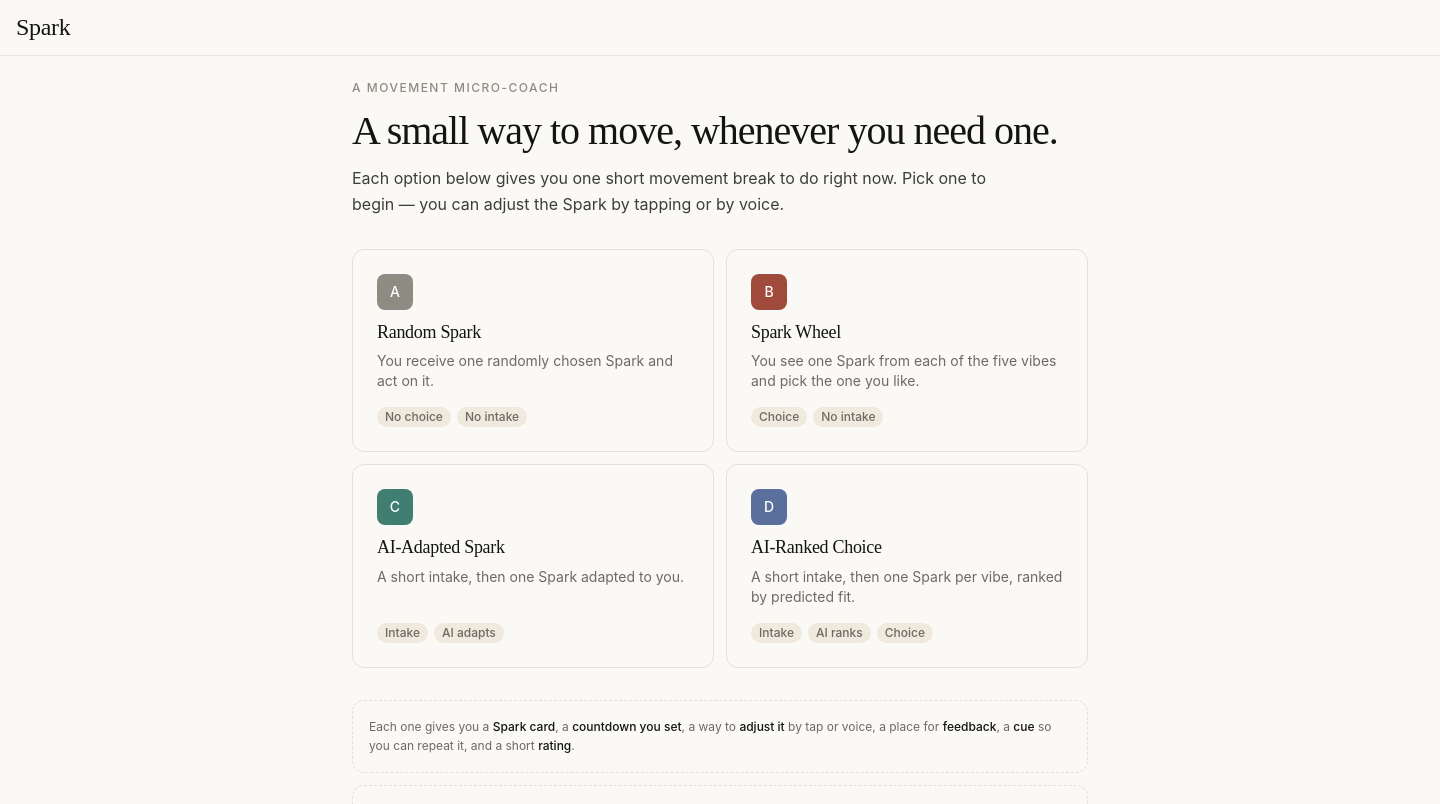
Test case: Spark page › condition A: fetches on entry, with no base_card and empty history
Click the button with test id "spark-cond-A" at (533, 351), box 352,249 -> 714,452
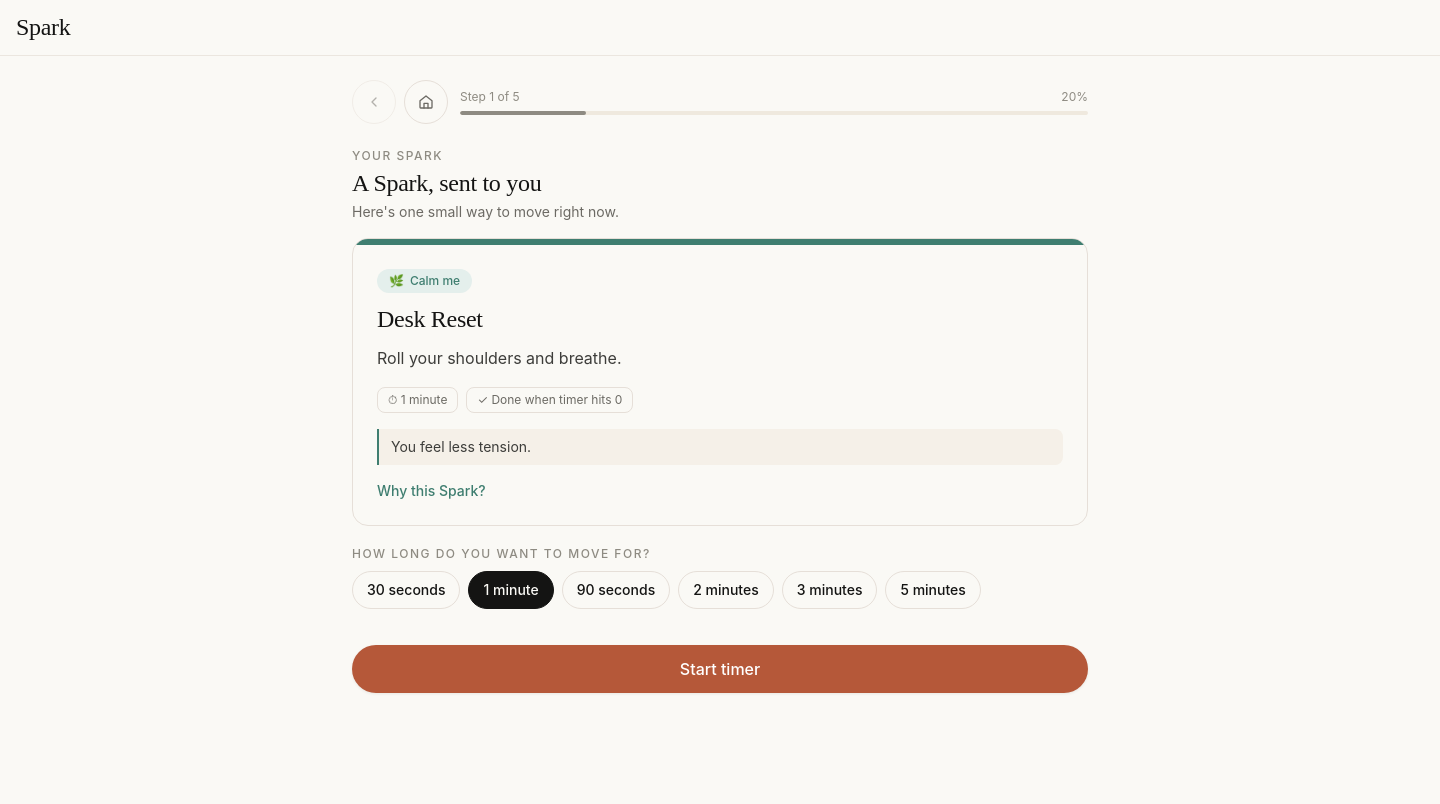
Now the heading "Desk Reset" is shown, box 377,306 -> 483,332
